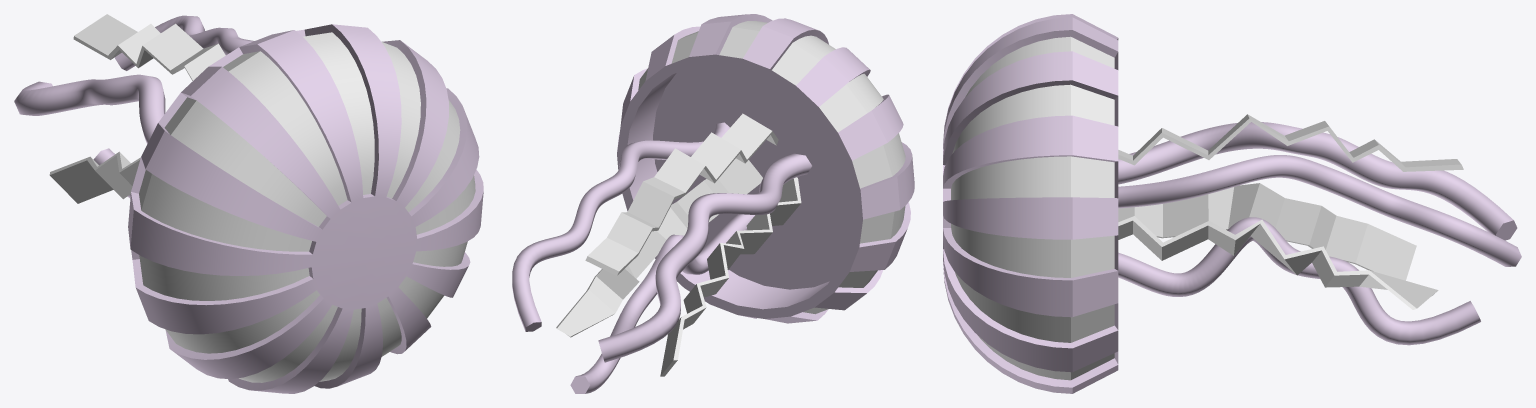
Rendered from Medusa.fbx.
The picture shows the model from 3 angles, left to right: view 1: azimuth 30°, elevation 25°; view 2: azimuth 150°, elevation 25°; view 3: azimuth 270°, elevation 25°; orthographic projection. The views are drawn at different scales.
Parts seen in each view (by area): view 1: Cylinder.001, NurbsPath.003, Plane.039, Plane.041, NurbsPath.004; view 2: Cylinder.001, Plane.039, NurbsPath.003, Plane.040, NurbsPath.004, Plane.041, NurbsPath.005; view 3: Cylinder.001, Plane.041, NurbsPath.004, NurbsPath.003, NurbsPath.005, Plane.040, Plane.039.
Part boxes in pixels (x1=…): Cylinder.001: x1=128, y1=24, x2=483, y2=393; NurbsPath.003: x1=14, y1=74, x2=165, y2=143; Plane.039: x1=73, y1=14, x2=225, y2=80; Plane.041: x1=49, y1=151, x2=140, y2=203; NurbsPath.004: x1=115, y1=15, x2=254, y2=70; Cylinder.001: x1=617, y1=14, x2=914, y2=323; Plane.039: x1=585, y1=113, x2=778, y2=275; NurbsPath.003: x1=598, y1=153, x2=811, y2=362; Plane.040: x1=556, y1=158, x2=762, y2=337; NurbsPath.004: x1=512, y1=122, x2=729, y2=331; Plane.041: x1=660, y1=177, x2=801, y2=376; NurbsPath.005: x1=570, y1=214, x2=754, y2=393; Cylinder.001: x1=943, y1=14, x2=1118, y2=393; Plane.041: x1=1118, y1=183, x2=1416, y2=280; NurbsPath.004: x1=1118, y1=155, x2=1521, y2=266; NurbsPath.003: x1=1118, y1=122, x2=1517, y2=240; NurbsPath.005: x1=1118, y1=217, x2=1480, y2=345; Plane.040: x1=1118, y1=216, x2=1438, y2=309; Plane.039: x1=1118, y1=114, x2=1463, y2=171.
Bounding box in the file's own units: 1628 × 1628 × 2480.
